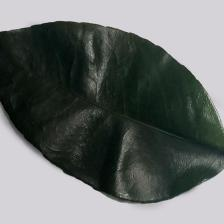healthy: (0, 31, 212, 201)
